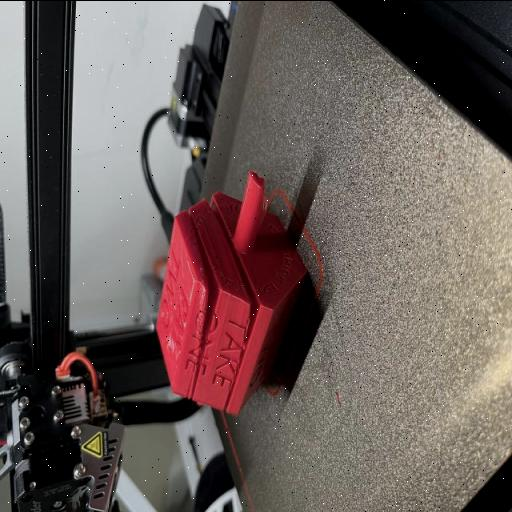cracks: (181, 208, 217, 398), (223, 221, 269, 365)
